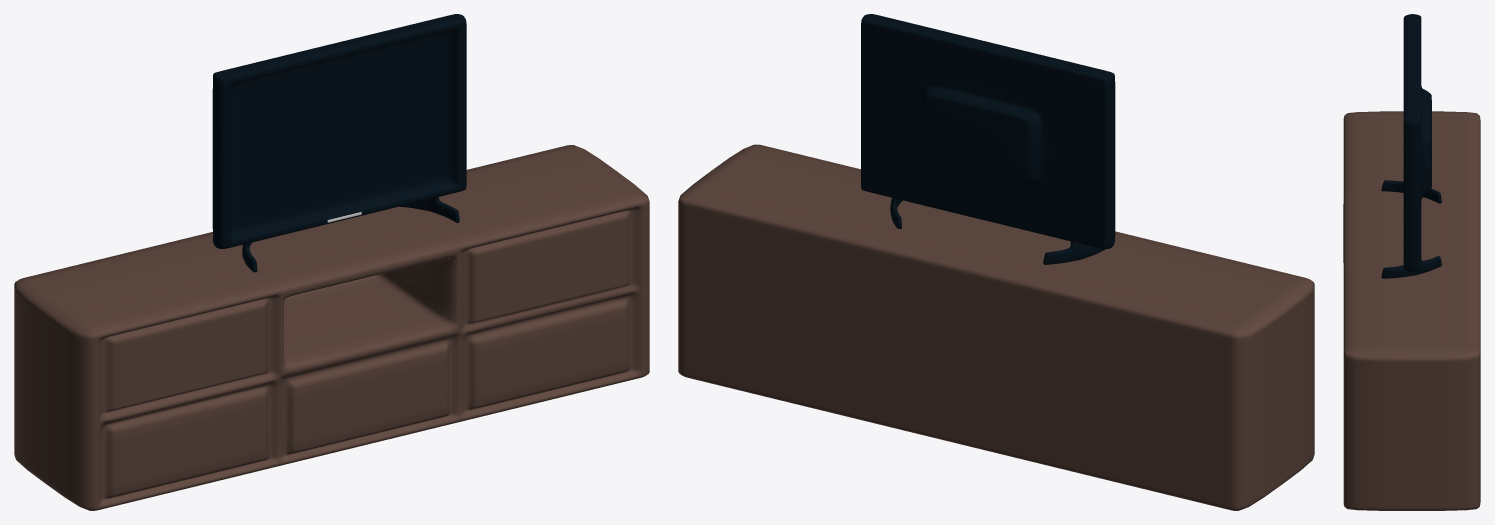
File: TV & Table Only.fbx
3 renders of one model, left to right at view 1: azimuth 30°, elevation 25°; view 2: azimuth 150°, elevation 25°; view 3: azimuth 270°, elevation 25°, orthographic. The views are drawn at different scales.
Parts seen in each view (by area): view 1: Cube.017; view 2: Cube.017; view 3: Cube.017.
Part boxes in pixels (x1,y1,x2,y2): Cube.017: (14,14,649,510); Cube.017: (678,14,1314,510); Cube.017: (1343,14,1480,510).
Size of the model in its own units: 452 by 280 by 106.
